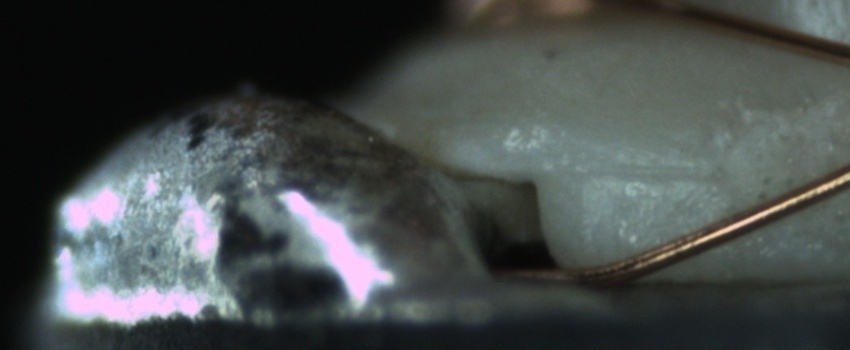DL: (572, 139, 719, 206)
